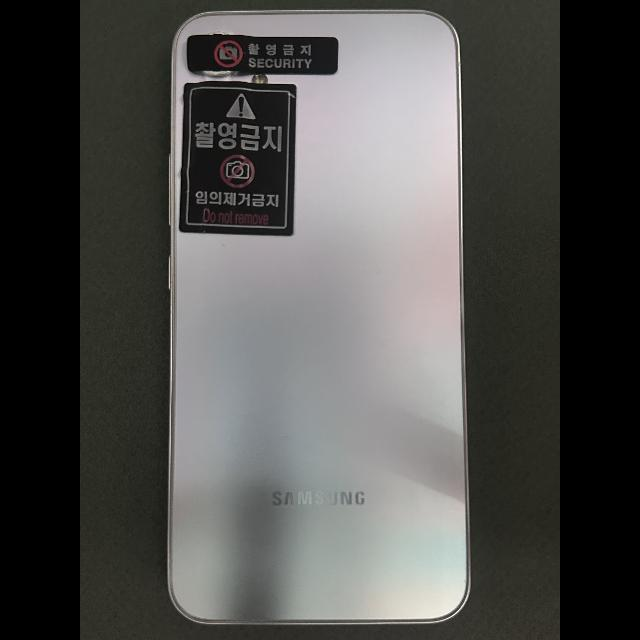phone: (166, 7, 472, 626)
sticker: (178, 80, 297, 237), (187, 34, 339, 75)
